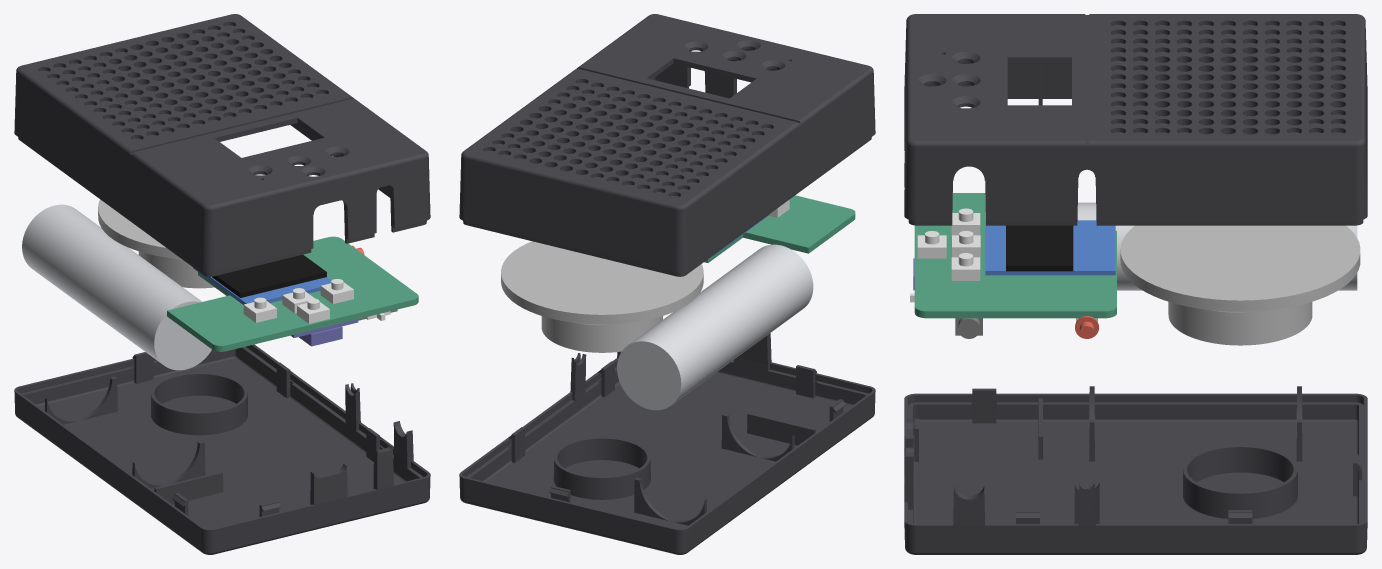
Rendered from exploded.glb.
The picture shows the model from 3 angles, left to right: view 1: azimuth 30°, elevation 25°; view 2: azimuth 150°, elevation 25°; view 3: azimuth 270°, elevation 25°; orthographic projection. The views are drawn at different scales.
Visible parts, largest first — view 1: =>[0:1:1:21], =>[0:1:1:3], =>[0:1:1:20], =>[0:1:1:5], =>[0:1:1:18], =>[0:1:1:9], =>[0:1:1:7], =>[0:1:1:16], =>[0:1:1:11], =>[0:1:1:12], =>[0:1:1:10]; view 2: =>[0:1:1:21], =>[0:1:1:3], =>[0:1:1:20], =>[0:1:1:18], =>[0:1:1:5]; view 3: =>[0:1:1:21], =>[0:1:1:3], =>[0:1:1:18], =>[0:1:1:5], =>[0:1:1:7], =>[0:1:1:9], =>[0:1:1:20], =>[0:1:1:12], =>[0:1:1:10], =>[0:1:1:11], =>[0:1:1:13].
Part boxes in pixels (box(x1,y1,x2,y2)): =>[0:1:1:21]: box(14, 14, 430, 276); =>[0:1:1:3]: box(14, 344, 430, 554); =>[0:1:1:20]: box(22, 204, 211, 370); =>[0:1:1:5]: box(167, 236, 418, 351); =>[0:1:1:18]: box(98, 174, 265, 288); =>[0:1:1:9]: box(212, 254, 326, 297); =>[0:1:1:7]: box(193, 267, 331, 304); =>[0:1:1:16]: box(291, 319, 358, 346); =>[0:1:1:11]: box(243, 297, 276, 322); =>[0:1:1:12]: box(320, 279, 353, 303); =>[0:1:1:10]: box(297, 298, 329, 323); =>[0:1:1:21]: box(459, 14, 875, 276); =>[0:1:1:3]: box(459, 333, 875, 554); =>[0:1:1:20]: box(617, 244, 813, 410); =>[0:1:1:18]: box(501, 241, 703, 352); =>[0:1:1:5]: box(704, 195, 855, 262); =>[0:1:1:21]: box(904, 14, 1367, 225); =>[0:1:1:3]: box(904, 386, 1367, 554); =>[0:1:1:18]: box(1120, 225, 1360, 345); =>[0:1:1:5]: box(914, 193, 1116, 318); =>[0:1:1:7]: box(985, 220, 1115, 275); =>[0:1:1:9]: box(1006, 225, 1073, 271); =>[0:1:1:20]: box(1077, 202, 1357, 290); =>[0:1:1:12]: box(951, 253, 980, 280); =>[0:1:1:10]: box(917, 231, 946, 258); =>[0:1:1:11]: box(951, 208, 980, 235); =>[0:1:1:13]: box(952, 231, 980, 258).
Size of the model in its own units: 0.0662 by 0.095 by 0.0965.
